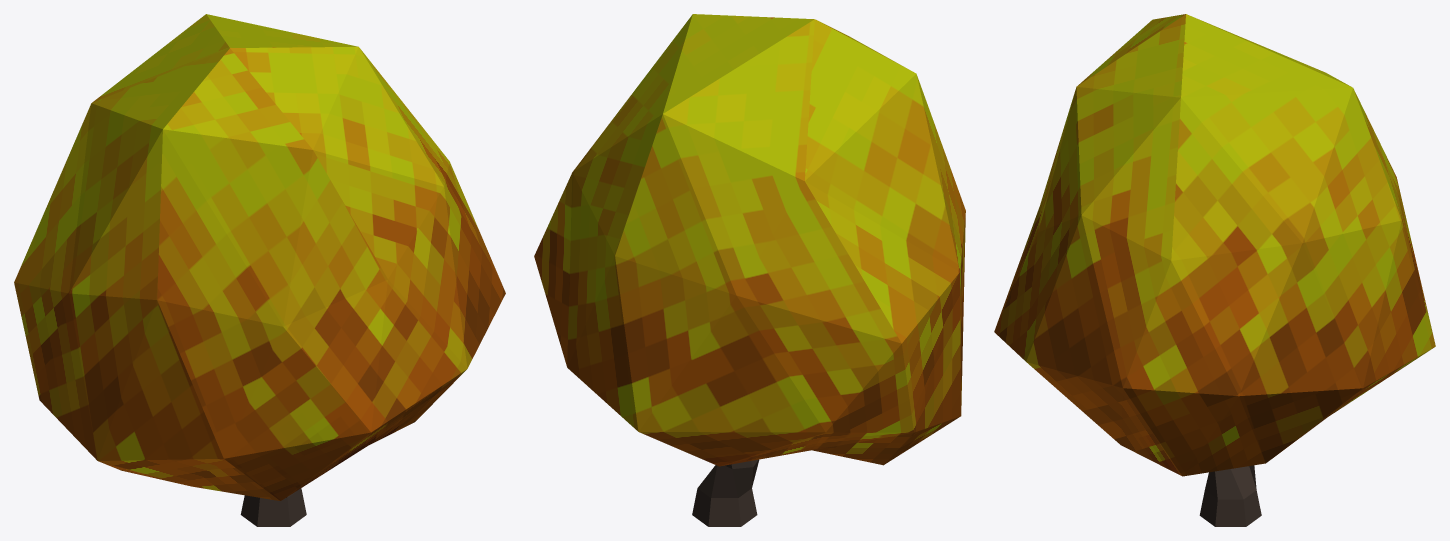
File: treeklonyell.glb
3 renders of one model, left to right at view 1: azimuth 30°, elevation 25°; view 2: azimuth 150°, elevation 25°; view 3: azimuth 270°, elevation 25°, orthographic. The views are drawn at different scales.
Parts seen in each view (by area): view 1: Icosphere, Cylinder; view 2: Icosphere, Cylinder; view 3: Icosphere, Cylinder.
Part boxes in pixels (<box>): Icosphere: <box>14,14,505,500</box>; Cylinder: <box>240,488,306,526</box>; Icosphere: <box>534,14,965,466</box>; Cylinder: <box>692,459,759,526</box>; Icosphere: <box>994,14,1435,476</box>; Cylinder: <box>1199,465,1261,526</box>.
Size of the model in its own units: 38.74 by 45.22 by 38.47.
2 materials, 1 textured.
